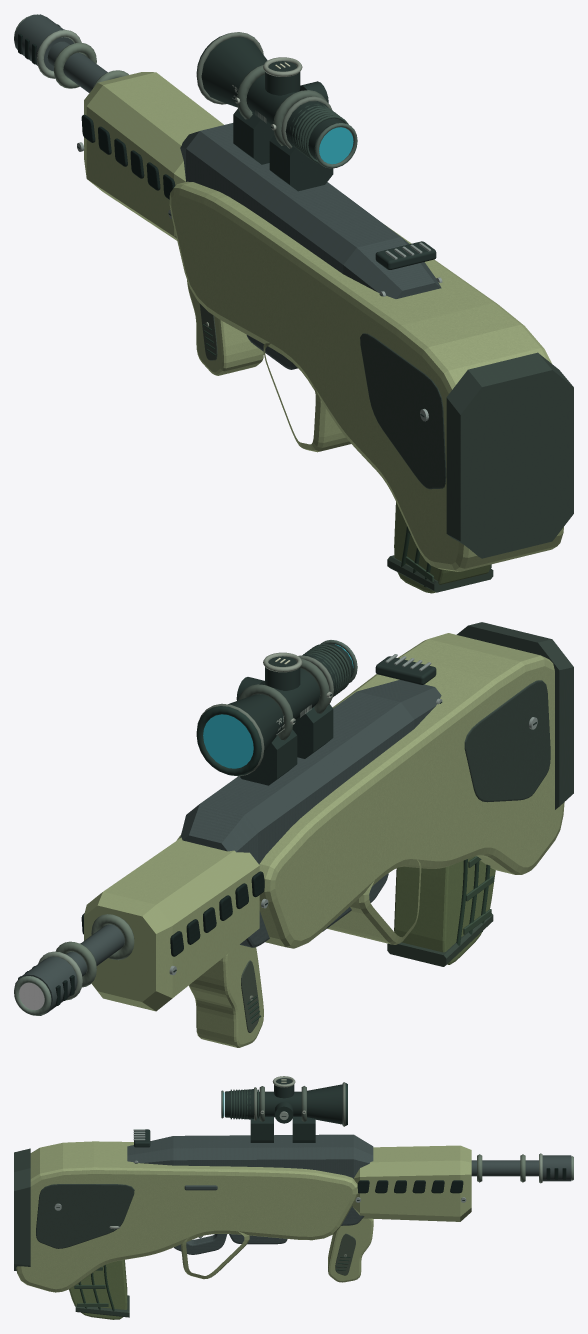
The model's file is aug.glb.
The picture shows the model from 3 angles, top to bottom: view 1: azimuth 30°, elevation 25°; view 2: azimuth 150°, elevation 25°; view 3: azimuth 270°, elevation 25°; orthographic projection. The views are drawn at different scales.
Parts seen in each view (by area): view 1: aug, magazine; view 2: aug, magazine; view 3: aug, magazine.
Part boxes in pixels (box(x1,y1,x2,y2)): aug: box(14, 14, 573, 571); magazine: box(387, 502, 493, 593); aug: box(14, 622, 573, 1047); magazine: box(387, 856, 495, 966); aug: box(14, 1076, 573, 1292); magazine: box(69, 1260, 129, 1319).
Size of the model in its own units: 0.169 by 0.5748 by 1.25.
Materials: 35 (18 with a texture image).
